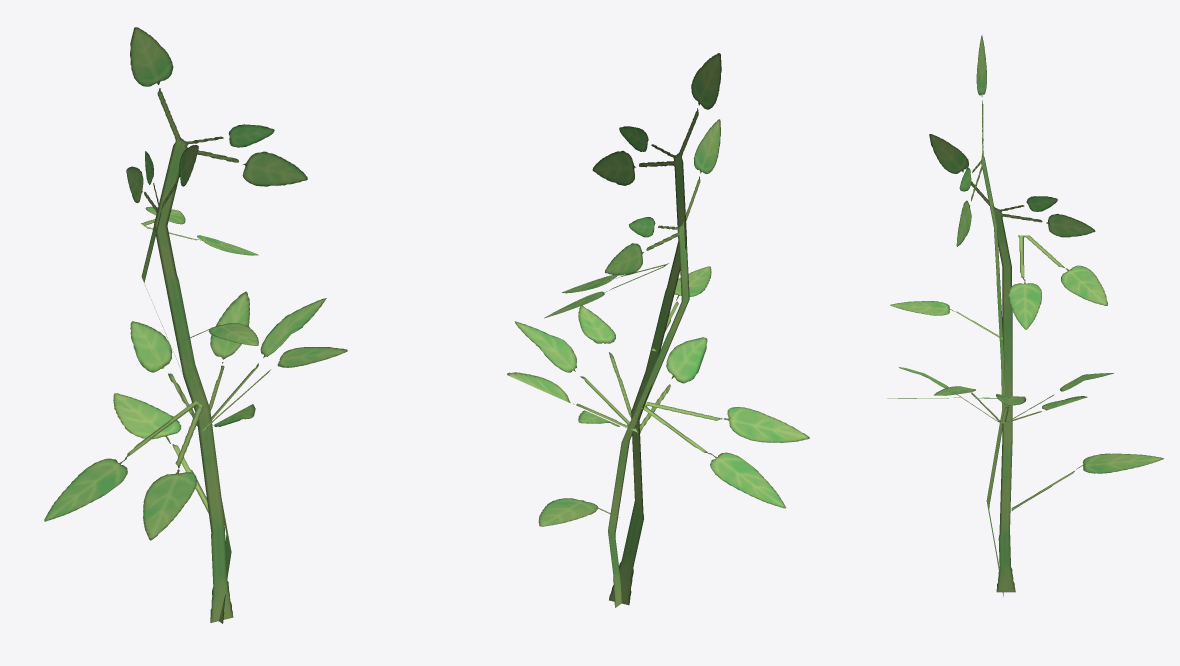
The model's file is LeafSetC_11.fbx.
The picture shows the model from 3 angles, left to right: view 1: azimuth 30°, elevation 25°; view 2: azimuth 150°, elevation 25°; view 3: azimuth 270°, elevation 25°; orthographic projection. The views are drawn at different scales.
Parts seen in each view (by area): view 1: LeafSetC_11; view 2: LeafSetC_11; view 3: LeafSetC_11.
Boxes of the visible parts, bbox=[...] form: LeafSetC_11: bbox=[44, 27, 347, 623]; LeafSetC_11: bbox=[507, 53, 809, 607]; LeafSetC_11: bbox=[887, 35, 1163, 596].
Size of the model in its own units: 0.569 by 1.04 by 0.5035.
